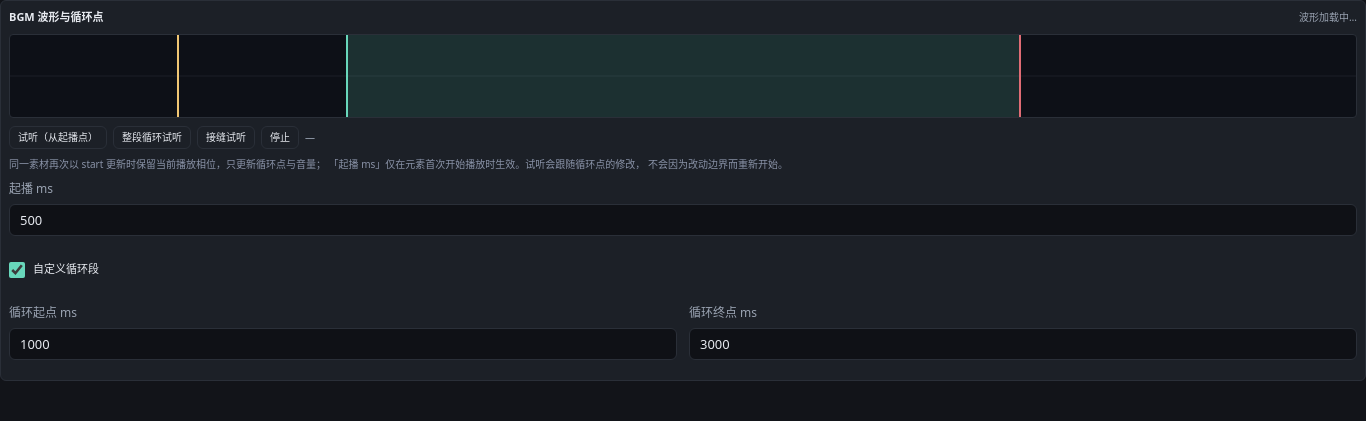
Test case: AudioLoopEditor › surfaces a current AbortError the author did not cause
Press the mouse on the element named "BGM 波形" at (683, 76), box [9, 34, 1357, 118]
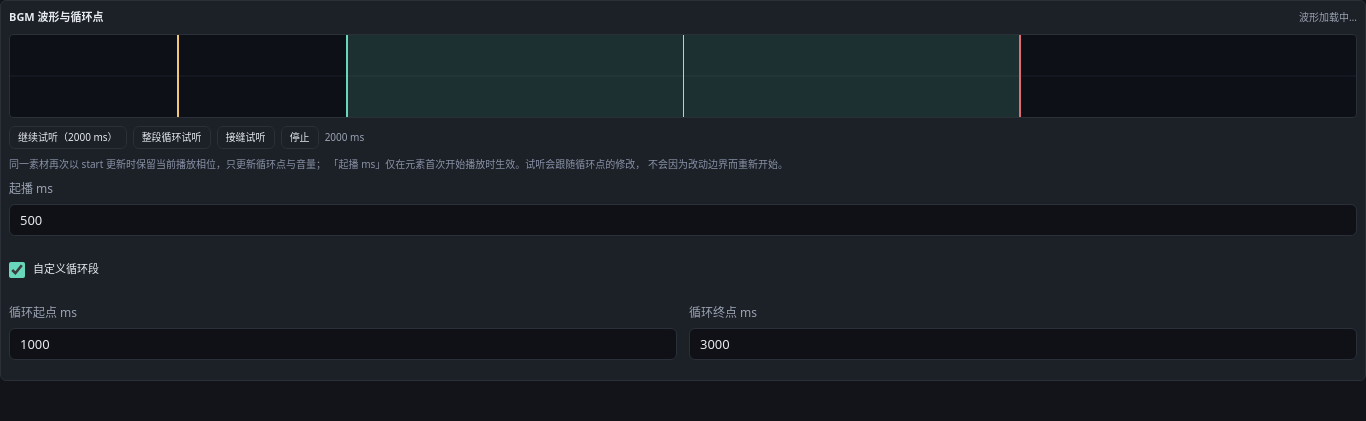
Click the button "继续试听（2000 ms）". click: (68, 137)
box: [9, 126, 127, 148]
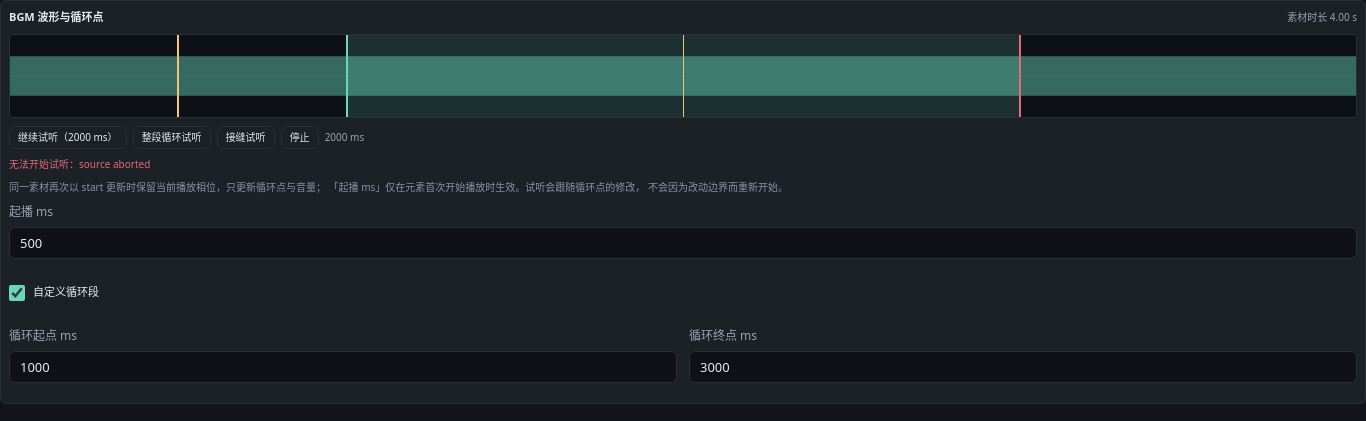
Expected: the button "继续试听（2000 ms）" is shown, [9, 126, 127, 148]
Expected: the message "无法开始试听：source aborted" is shown, [9, 156, 150, 170]
